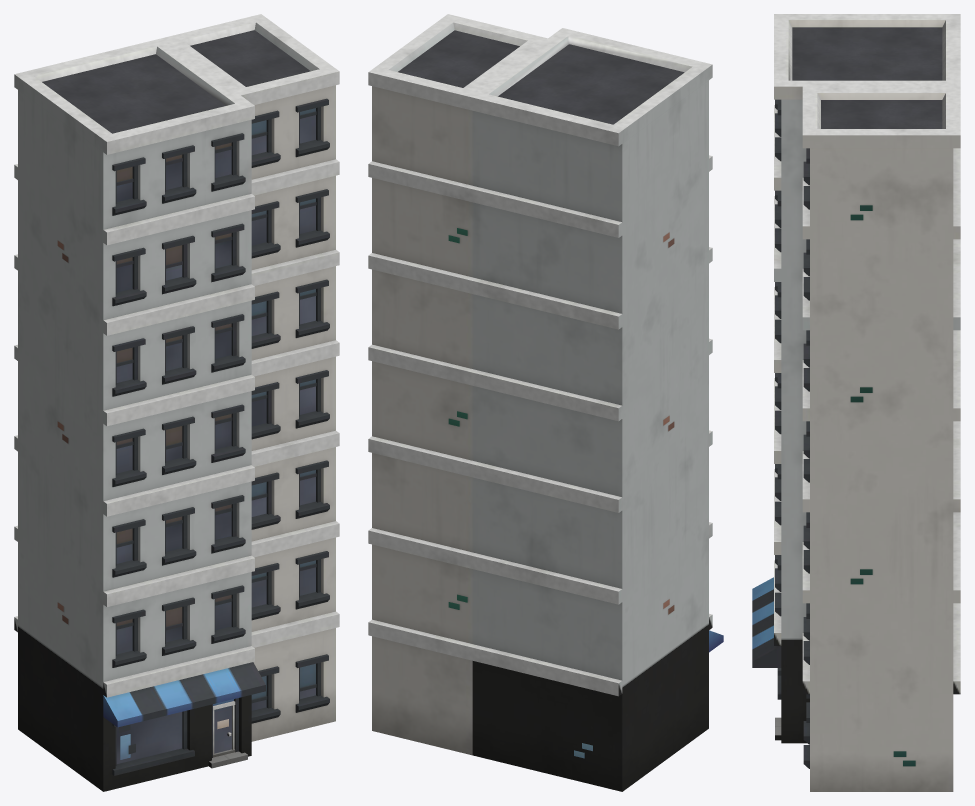
File: building_G_8f.glb
3 renders of one model, left to right at view 1: azimuth 30°, elevation 25°; view 2: azimuth 150°, elevation 25°; view 3: azimuth 270°, elevation 25°, orthographic.
Parts seen in each view (by area): view 1: ground; view 2: ground; view 3: ground.
Boxes of the visible parts, bbox=[...] form: ground: bbox=[14, 14, 339, 791]; ground: bbox=[368, 14, 723, 791]; ground: bbox=[752, 14, 960, 791].
Size of the model in its own units: 2.01 by 5.05 by 1.45.
Materials: 2 (2 with a texture image).
